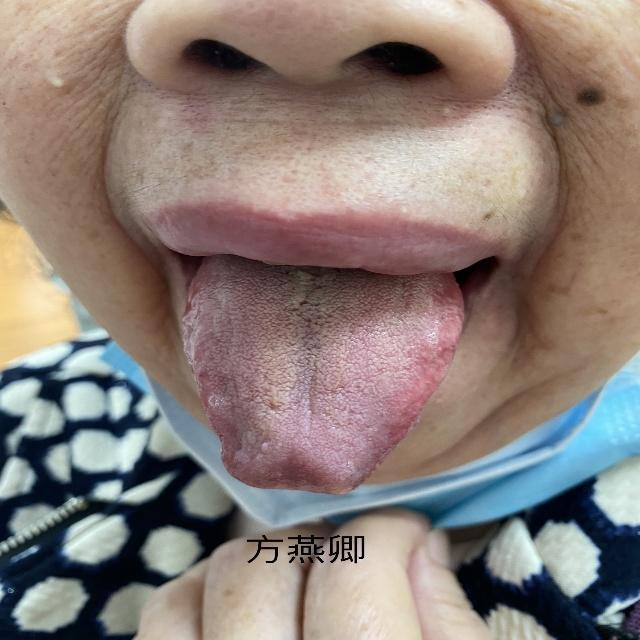baitaishe: (181, 278, 467, 495)
